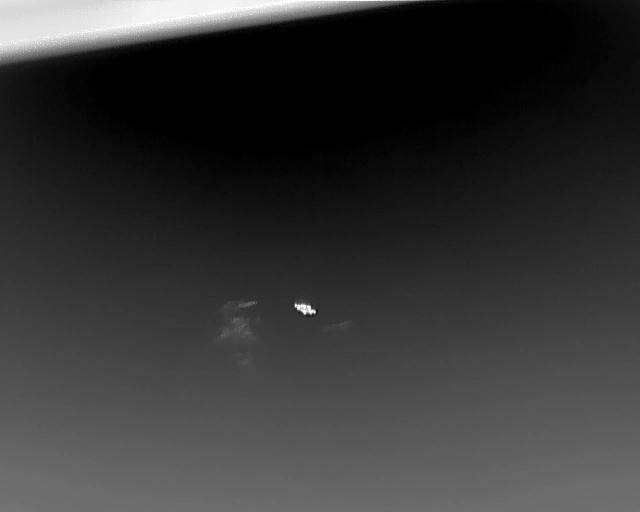fpv-drone: (294, 302, 316, 315)
